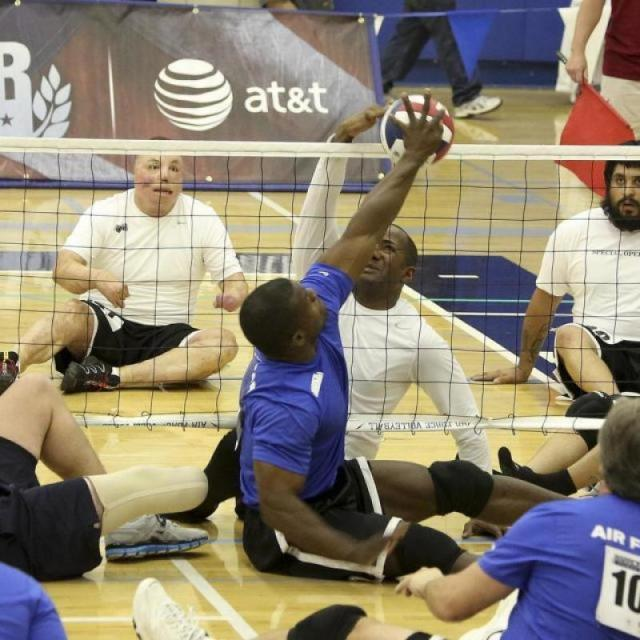volleyball: (377, 92, 454, 172)
